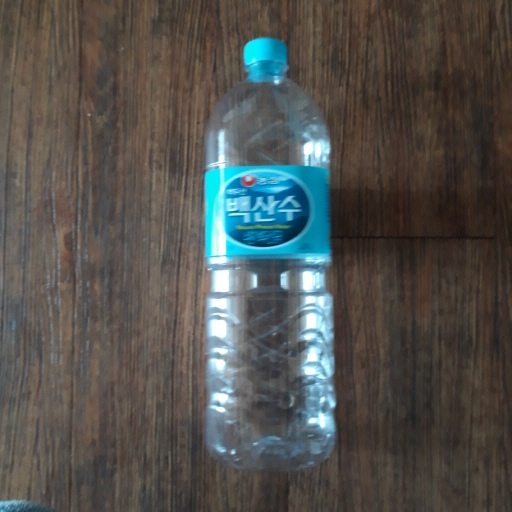Plastic_0: (187, 36, 339, 464)
